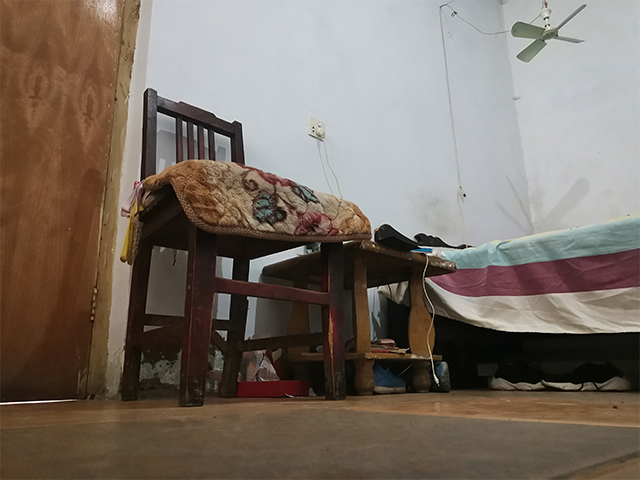bed: (402, 214, 640, 392)
stool: (116, 86, 348, 409)
table: (261, 238, 458, 398)
wire: (422, 248, 444, 386)
